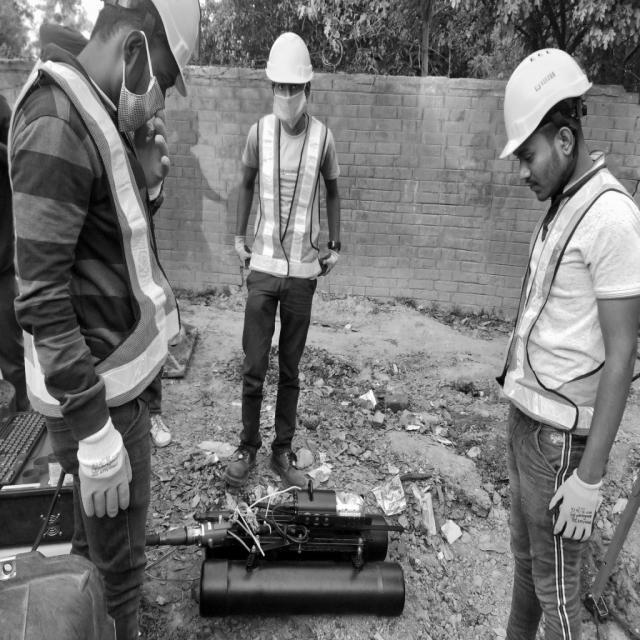Reflective-Jacket: (3, 54, 184, 426), (496, 170, 628, 440), (243, 107, 328, 289)
Safety-Helmet: (498, 42, 593, 158), (138, 1, 208, 97), (264, 30, 316, 86)
